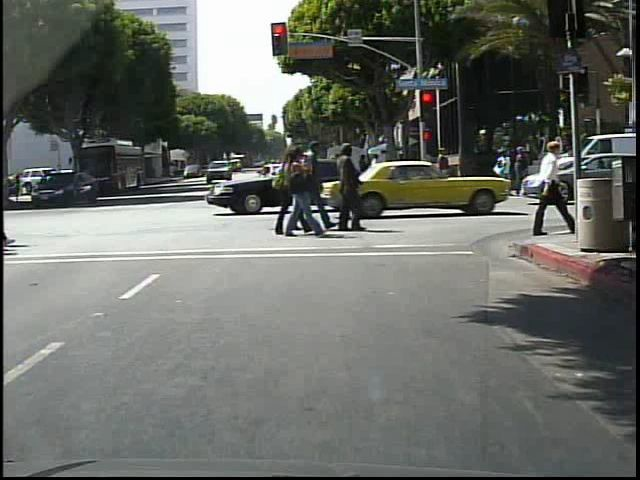person: (521, 140, 566, 244)
